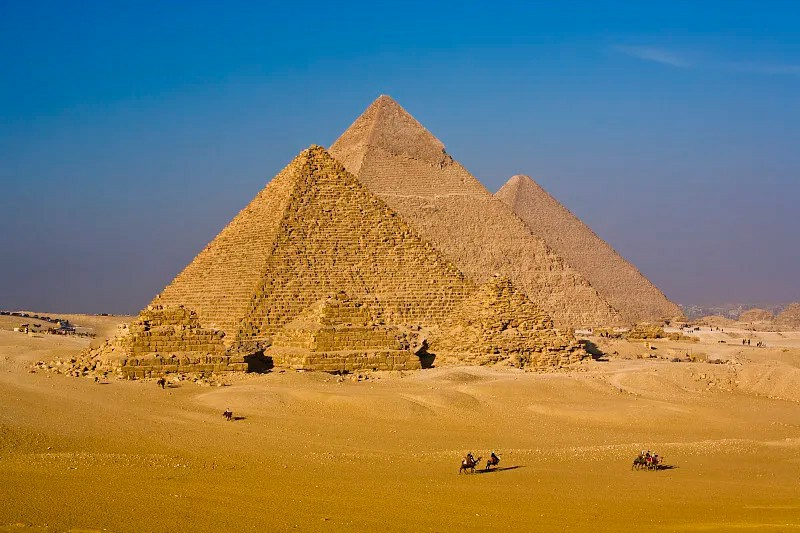Pyramid: (144, 145, 480, 355), (329, 95, 628, 328), (494, 174, 684, 327), (439, 281, 596, 366), (78, 306, 247, 376), (269, 293, 422, 369)
